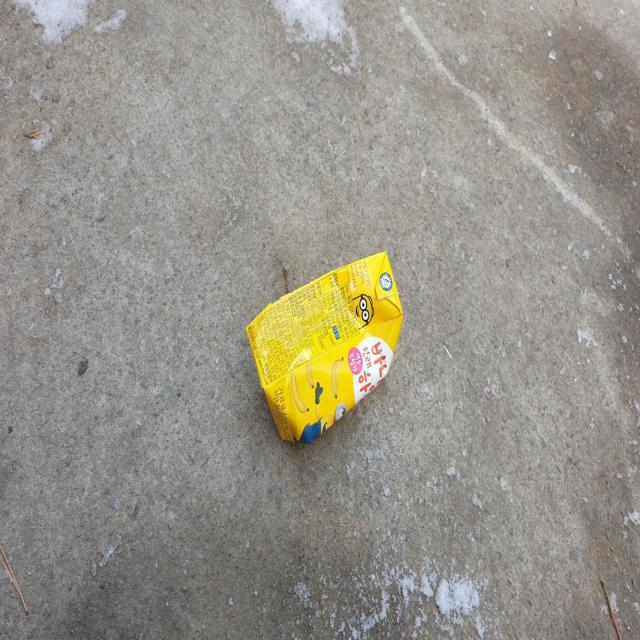paperpack: (247, 251, 403, 443)
